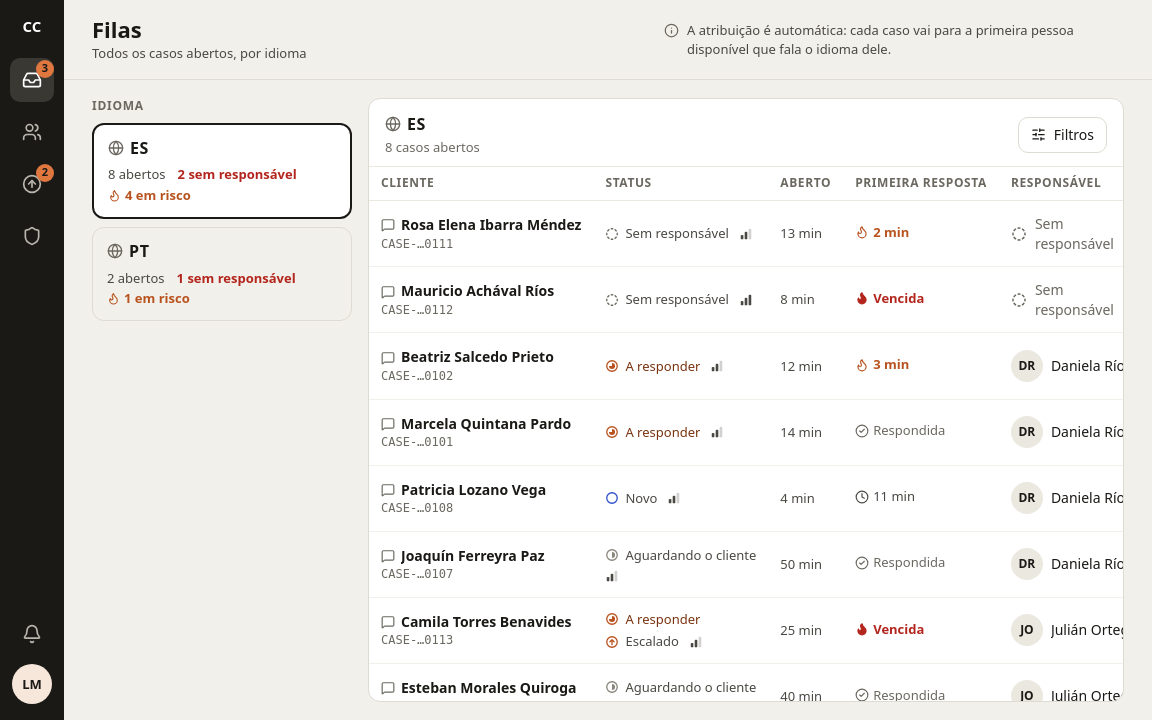
Test: queues screen in Portuguese (pt-BR) › shows the queues, the cases and the filters in Portuguese
Expected: the heading "Filas" is shown, [92,14,142,44]
Expected: the text "Todos os casos abertos, por idioma" is shown, [92,44,307,63]
Step 1. Click the button "Filtros" → (1062, 135), box [1018,117,1107,153]
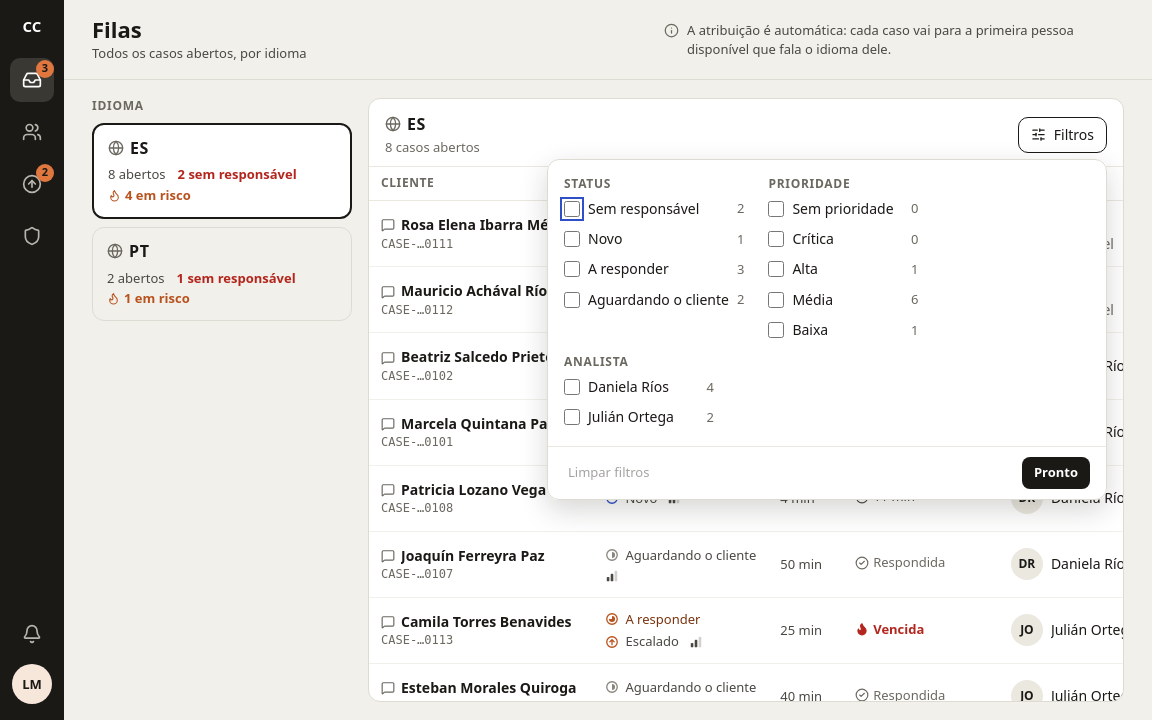
Result: the element "Prioridade" is shown at [768,176,918,342]
Step 2. Click the checkbox labelled "Julián Ortega 2" → (572, 417), box [564,409,580,425]
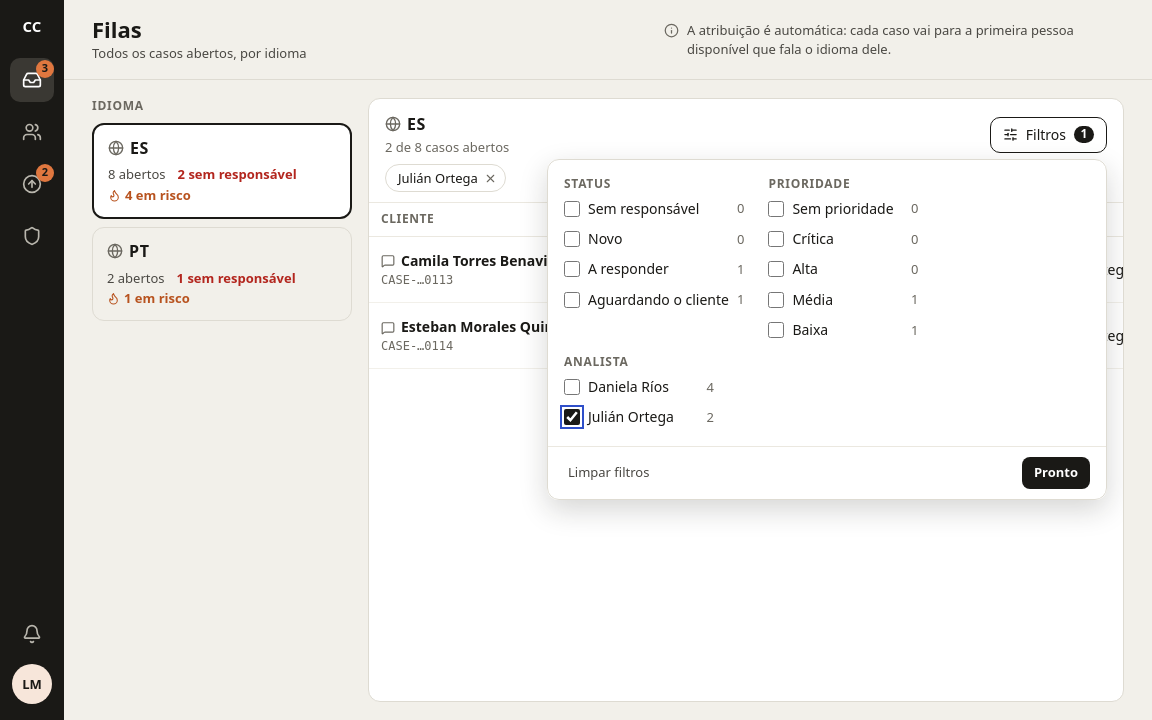
Result: the text "2 de 8 casos abertos" is shown at [385,138,509,156]
